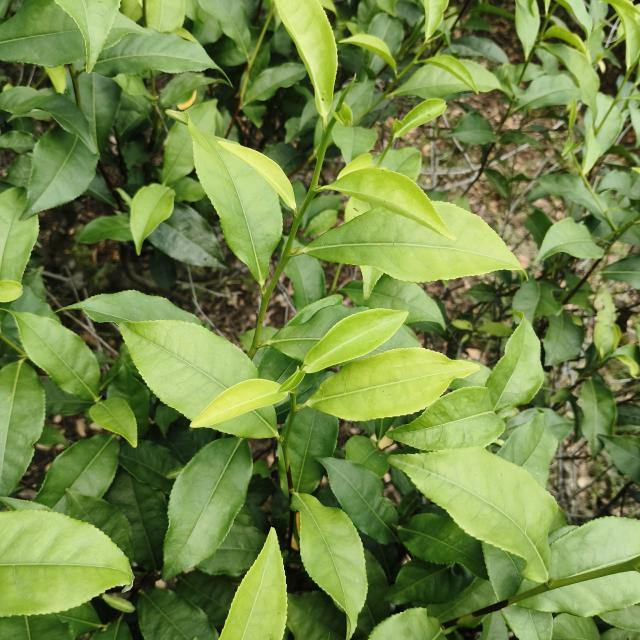Leaf: (391, 447, 557, 582), (302, 202, 522, 283), (187, 116, 282, 287), (0, 509, 134, 617), (120, 320, 258, 420), (163, 437, 252, 581), (306, 347, 478, 421), (291, 493, 367, 640), (326, 166, 454, 239), (10, 311, 100, 402), (274, 0, 337, 124), (219, 528, 287, 640), (389, 387, 505, 450), (22, 127, 98, 219), (318, 457, 398, 544), (302, 309, 408, 373), (34, 434, 119, 513), (0, 87, 97, 154), (107, 469, 168, 572), (549, 517, 640, 586), (94, 28, 219, 77), (0, 360, 45, 495), (398, 513, 488, 579), (338, 274, 444, 329), (0, 0, 85, 67), (218, 139, 296, 211), (268, 305, 365, 362), (516, 573, 640, 617), (486, 319, 544, 413), (147, 201, 226, 267), (67, 489, 133, 562), (63, 290, 199, 324), (55, 0, 119, 72), (0, 187, 39, 303), (497, 413, 558, 487), (289, 408, 338, 494), (137, 589, 218, 640), (541, 44, 599, 115), (106, 345, 149, 435), (387, 559, 473, 604), (196, 521, 266, 576), (79, 72, 122, 152), (119, 440, 178, 494), (130, 184, 174, 255), (526, 173, 602, 214), (199, 0, 250, 61), (240, 62, 306, 109), (287, 591, 346, 640), (537, 218, 604, 261), (392, 65, 471, 99), (581, 379, 616, 455), (482, 542, 524, 601), (89, 397, 137, 447), (606, 0, 640, 70), (284, 255, 325, 312), (368, 608, 441, 640), (506, 407, 573, 441), (392, 99, 446, 141), (515, 74, 579, 109), (339, 34, 396, 73), (544, 312, 584, 366), (422, 55, 478, 93), (513, 279, 562, 322), (161, 122, 194, 185), (160, 72, 214, 108), (499, 605, 553, 640), (593, 289, 620, 359), (603, 435, 640, 486), (216, 407, 276, 438), (345, 436, 389, 477), (332, 124, 377, 164), (449, 35, 508, 64), (76, 214, 132, 244), (445, 112, 496, 144), (104, 12, 148, 49), (369, 325, 421, 355), (367, 13, 403, 56), (515, 0, 540, 57), (601, 253, 640, 289), (458, 60, 500, 92), (556, 0, 593, 35), (145, 0, 185, 32), (345, 80, 375, 120), (184, 100, 219, 134), (423, 0, 448, 39), (582, 125, 600, 174), (0, 131, 36, 153), (600, 170, 631, 191)
